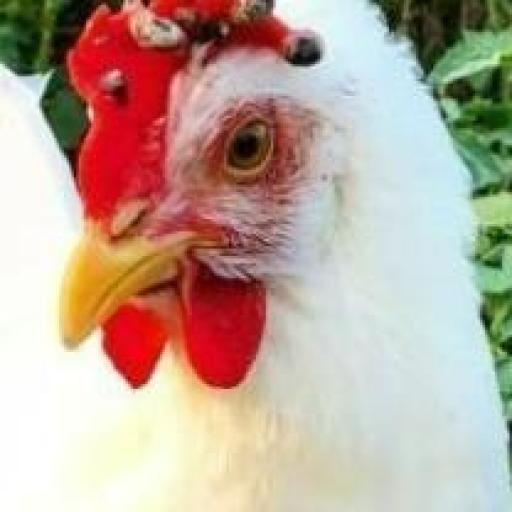disease: (87, 60, 146, 111), (170, 10, 244, 48), (285, 18, 339, 70), (125, 8, 177, 46), (241, 0, 261, 13)
